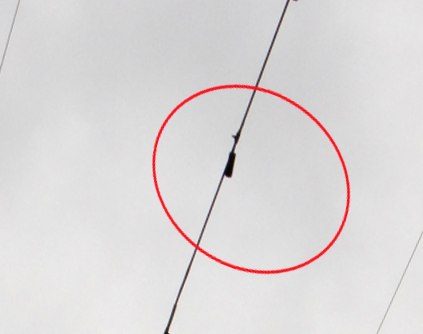damper_defect: (221, 126, 244, 179)
